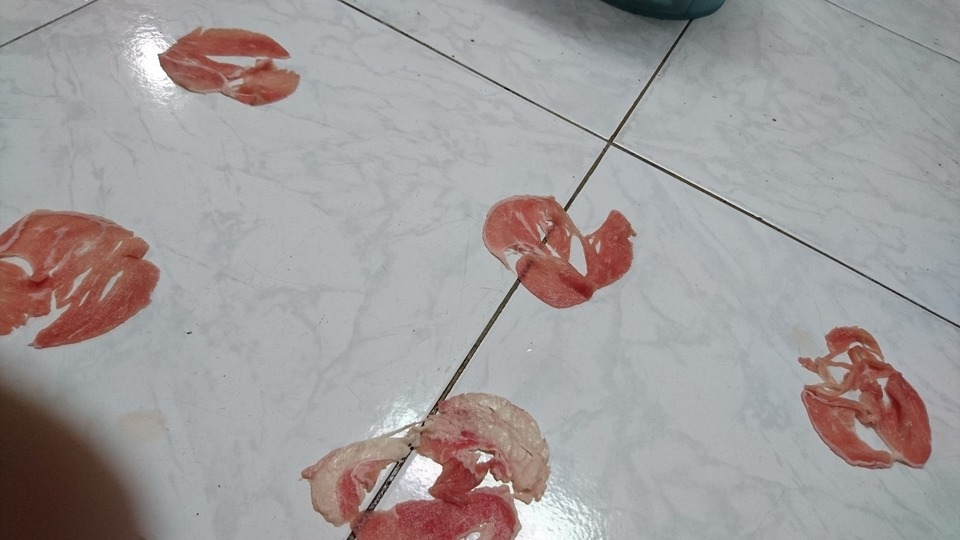restructured meat: (302, 390, 550, 540), (1, 199, 158, 349), (797, 312, 934, 473), (479, 182, 640, 310), (158, 20, 300, 111)
